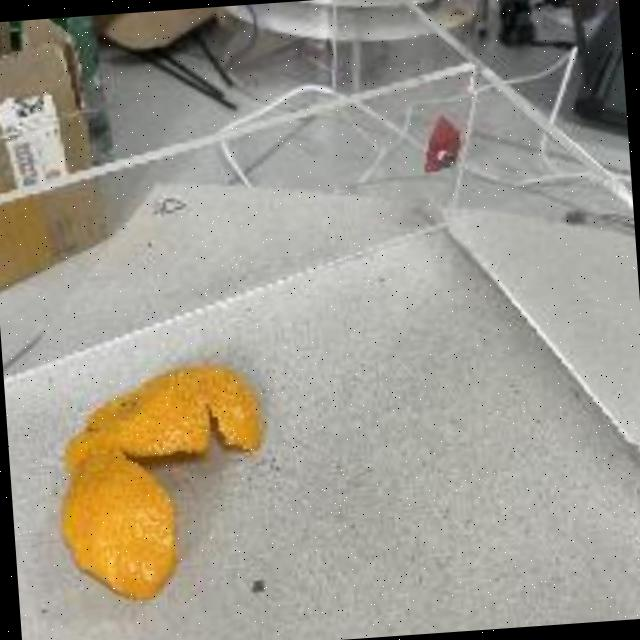orange-peel: (45, 354, 278, 607)
